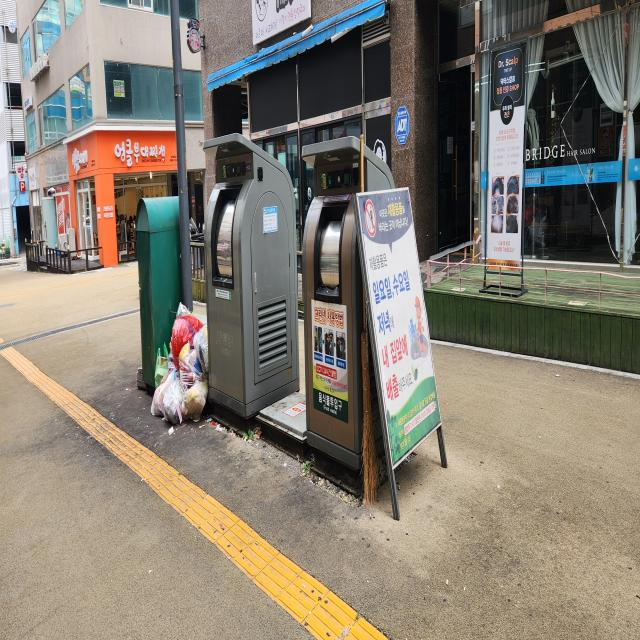CleanNet: (295, 119, 407, 484), (198, 126, 304, 428)
General Waste: (150, 303, 210, 431), (149, 365, 208, 428), (164, 311, 204, 368)
